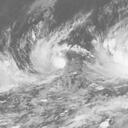cyclone: (95, 32, 127, 81), (32, 39, 71, 76)
